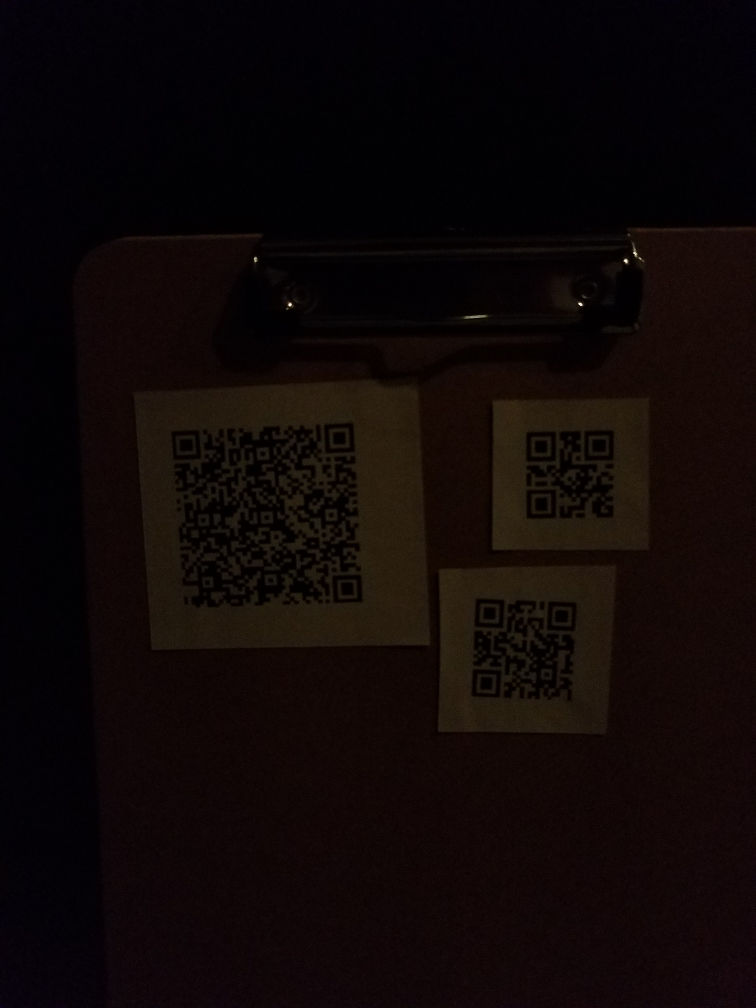QR_CODE: (156, 399, 375, 629), (453, 584, 593, 724), (506, 407, 634, 538)
